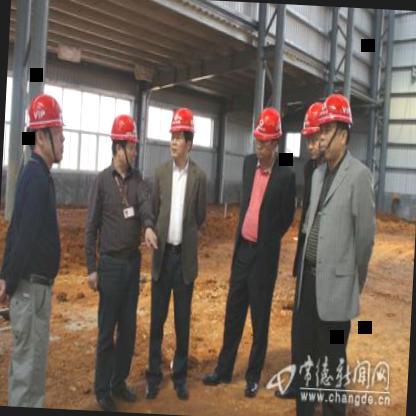helmet: (22, 90, 70, 170), (316, 90, 355, 165), (250, 104, 286, 166), (107, 107, 140, 172), (166, 104, 196, 162), (302, 101, 327, 164)
